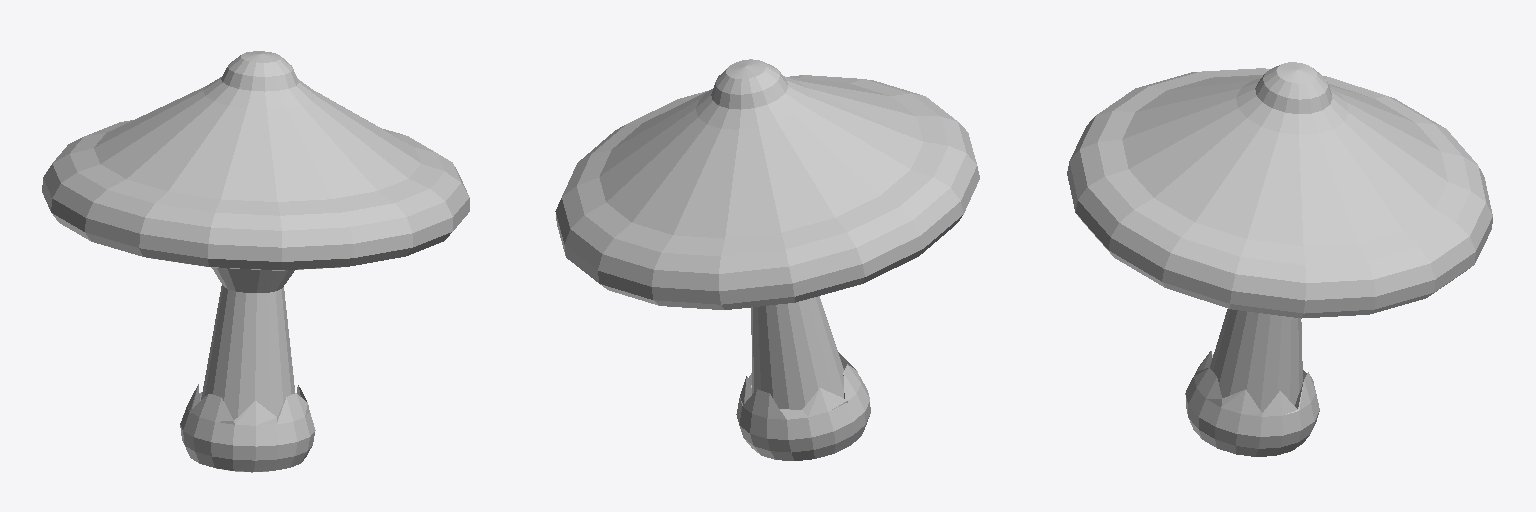
The model's file is mushroom_1_001.obj.
The picture shows the model from 3 angles: view 1: azimuth 30°, elevation 25°; view 2: azimuth 150°, elevation 25°; view 3: azimuth 270°, elevation 25°; orthographic projection.
Visible parts, largest first — view 1: Champ-A1_Plane.005; view 2: Champ-A1_Plane.005; view 3: Champ-A1_Plane.005.
Part boxes in pixels (x1,y1,x2,y2): Champ-A1_Plane.005: (42,51,469,472); Champ-A1_Plane.005: (555,59,979,460); Champ-A1_Plane.005: (1067,62,1492,456).
Bounding box in the file's own units: 0.9879 × 0.9917 × 0.9932.